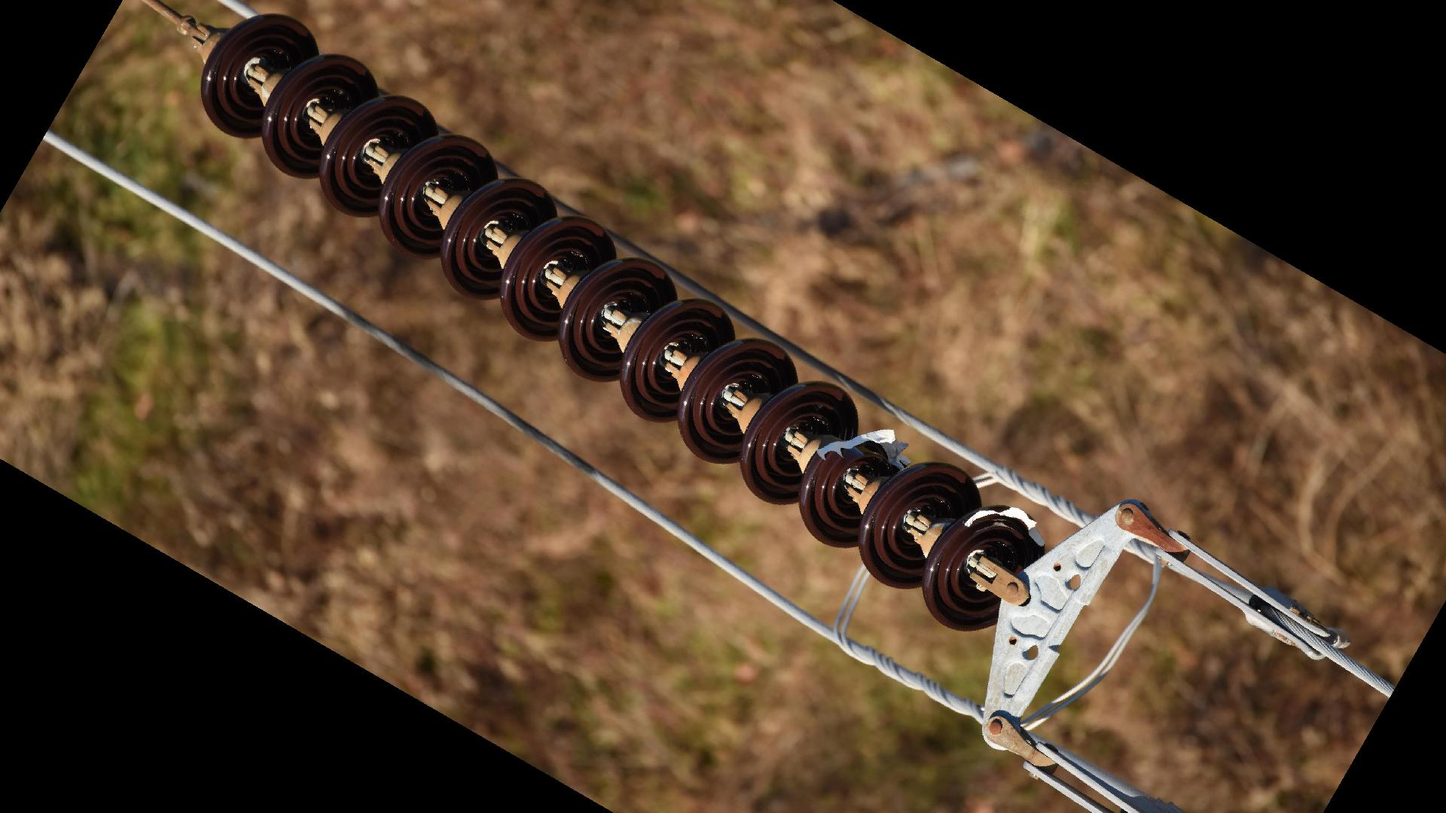insulator: (195, 10, 1051, 634)
insulator_breakage: (810, 421, 925, 480), (957, 501, 1052, 552)
